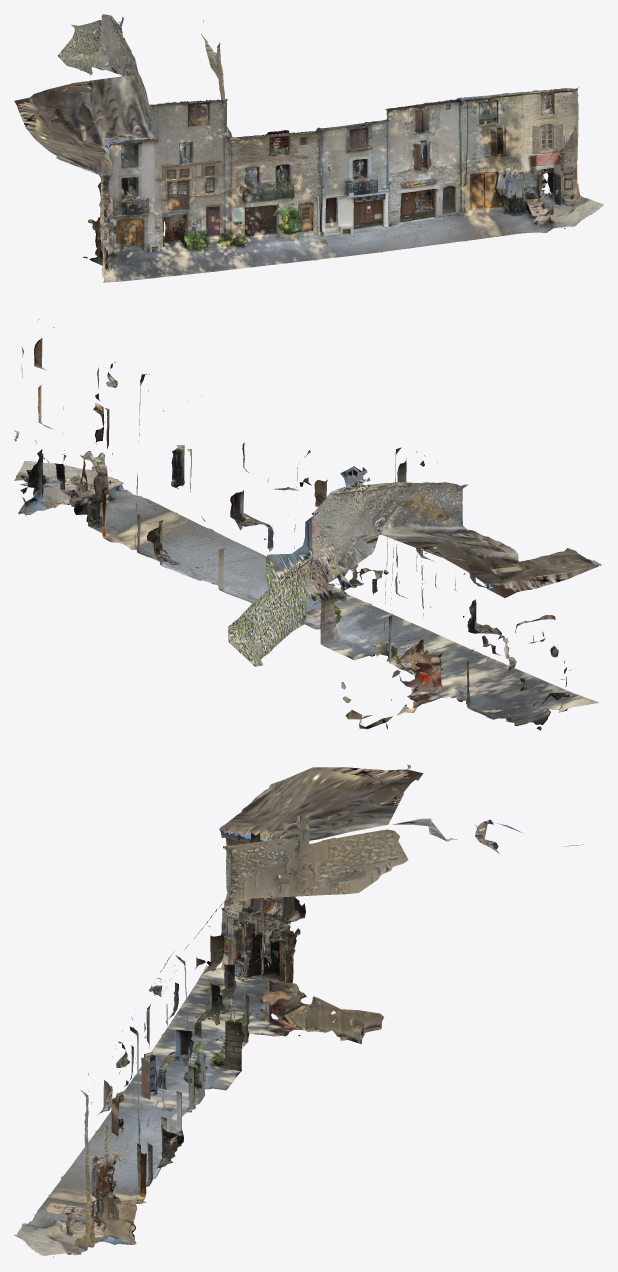
The model's file is medium.glb.
3 views of the same model, one above another, from view 1: azimuth 30°, elevation 25°; view 2: azimuth 150°, elevation 25°; view 3: azimuth 270°, elevation 25° (orthographic). The views are drawn at different scales.
Visible parts, largest first — view 1: medium.003; view 2: medium.003; view 3: medium.003.
Part boxes in pixels (x1=…): medium.003: x1=14, y1=14, x2=603, y2=282; medium.003: x1=14, y1=319, x2=601, y2=730; medium.003: x1=14, y1=764, x2=587, y2=1257.
Bounding box in the file's own units: 33.6 × 13.24 × 25.46.
Materials: 1 (1 with a texture image).
